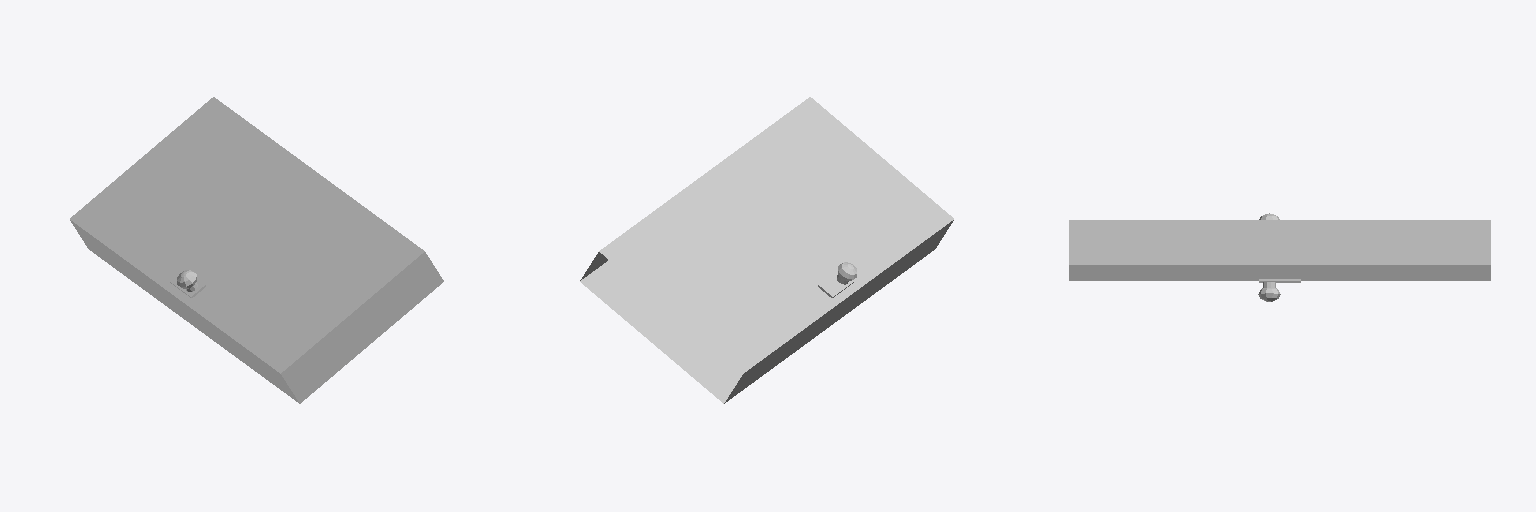
File: f_Door(open_1_3).obj
The picture shows the model from 3 angles: view 1: azimuth 30°, elevation 25°; view 2: azimuth 150°, elevation 25°; view 3: azimuth 270°, elevation 25°; orthographic projection.
Visible parts, largest first — view 1: Door.004; view 2: Door.004; view 3: Door.004.
Part boxes in pixels (left/top/right/bottom): Door.004: left=70, top=97, right=443, bottom=403; Door.004: left=580, top=97, right=953, bottom=403; Door.004: left=1069, top=213, right=1490, bottom=301.
Bounding box in the file's own units: 8.58 × 6.6 × 19.